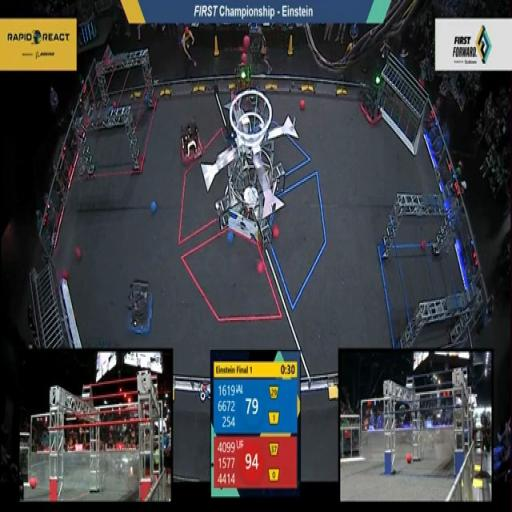robot: (354, 56, 393, 126), (124, 272, 154, 336), (177, 112, 205, 172)
